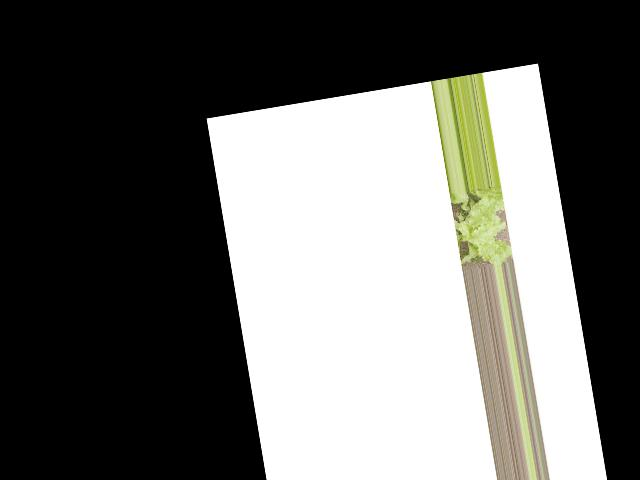lettuce: (446, 185, 511, 270)
